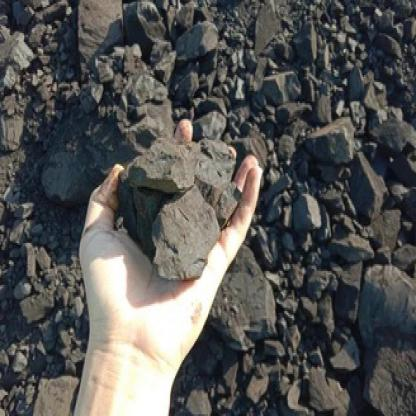Sedimentary_coal: (151, 185, 216, 285), (355, 254, 415, 346), (119, 140, 208, 192), (69, 0, 128, 65), (348, 147, 400, 220), (306, 112, 362, 164), (41, 152, 91, 206), (290, 187, 326, 241)
